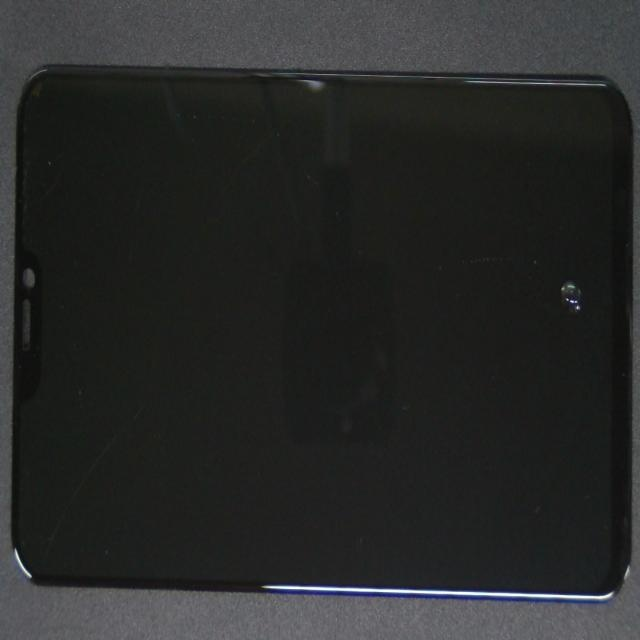oil: (267, 130, 640, 467)
